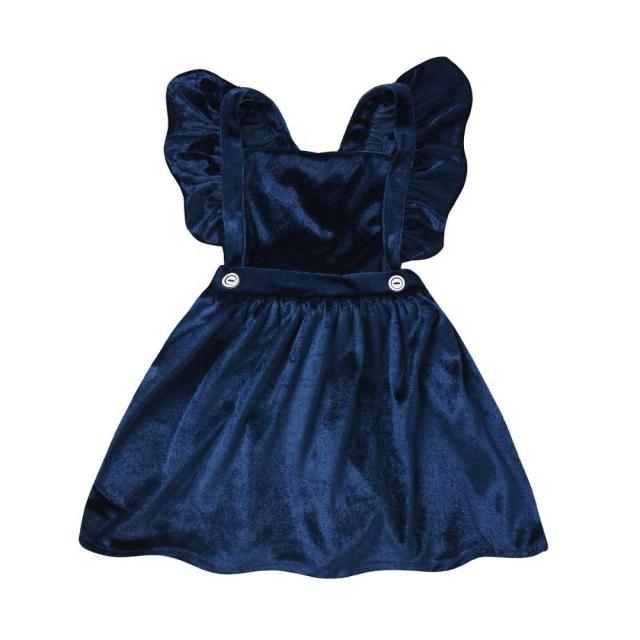Dress: (82, 50, 552, 571)
